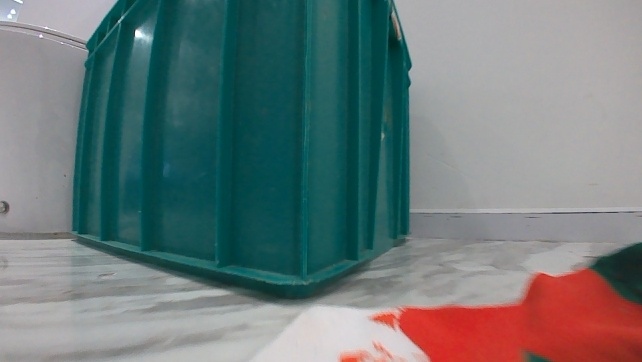socks: (242, 237, 641, 361)
toilet: (0, 15, 90, 238)
